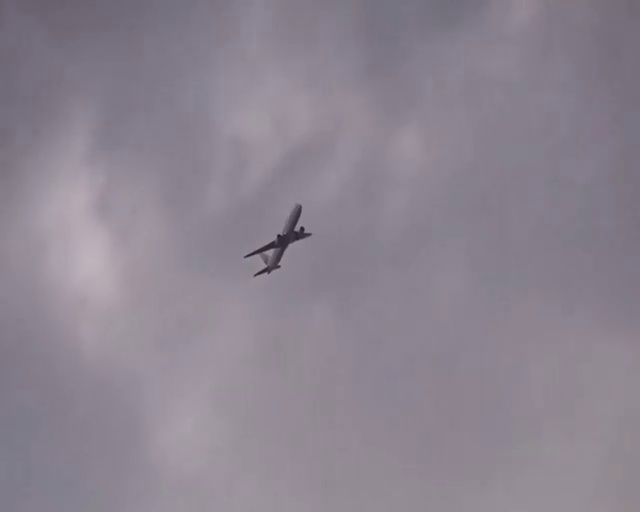AIRPLANE: (244, 203, 314, 276)
